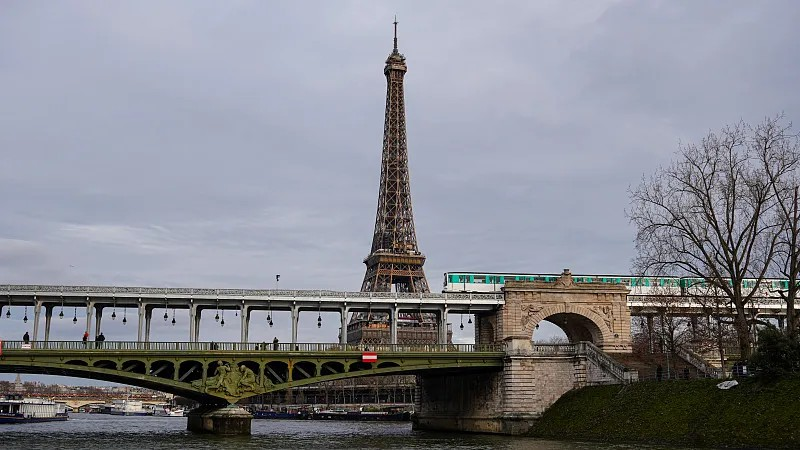Eiffel: (337, 14, 454, 351)
